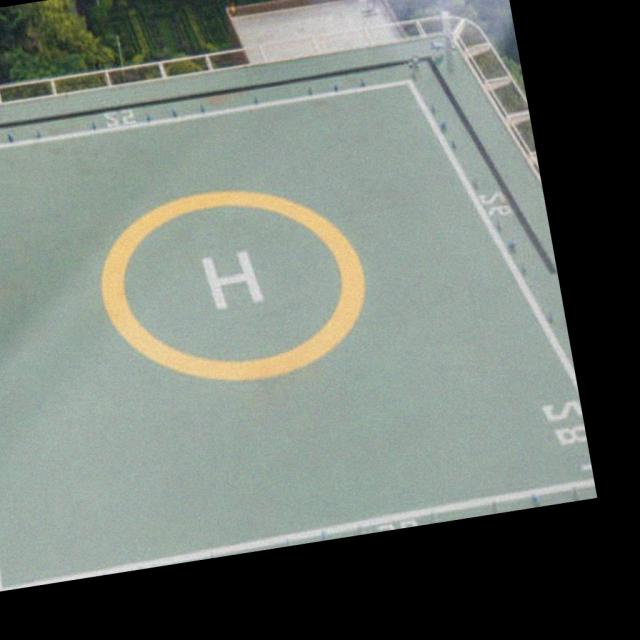helipad: (94, 186, 369, 385)
